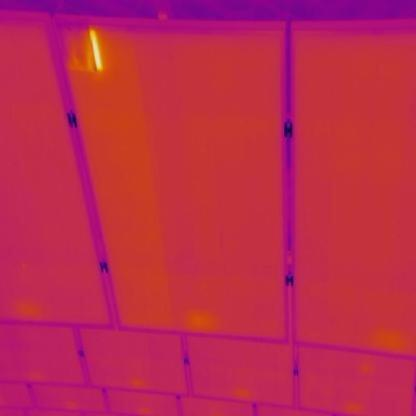anomaly: (69, 28, 105, 77)
